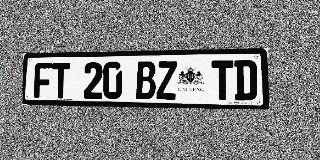0: (103, 62, 122, 99)
2: (84, 62, 103, 99)
B: (136, 61, 156, 99)
D: (234, 60, 257, 101)
F: (34, 63, 52, 98)
T: (212, 60, 234, 100), (52, 62, 70, 98)
Z: (156, 61, 177, 100)
